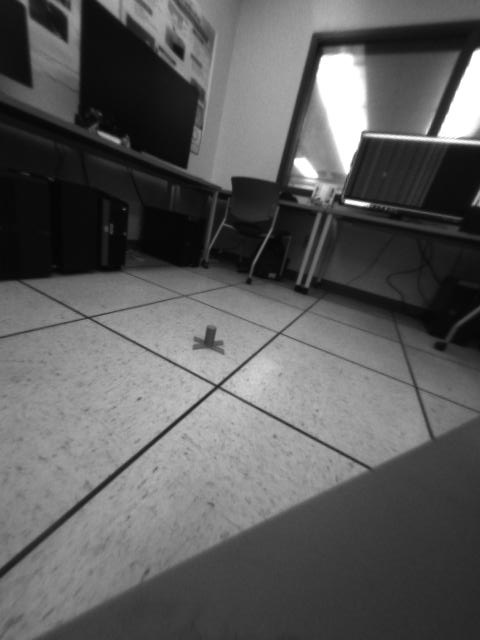X: (190, 325, 225, 354)
